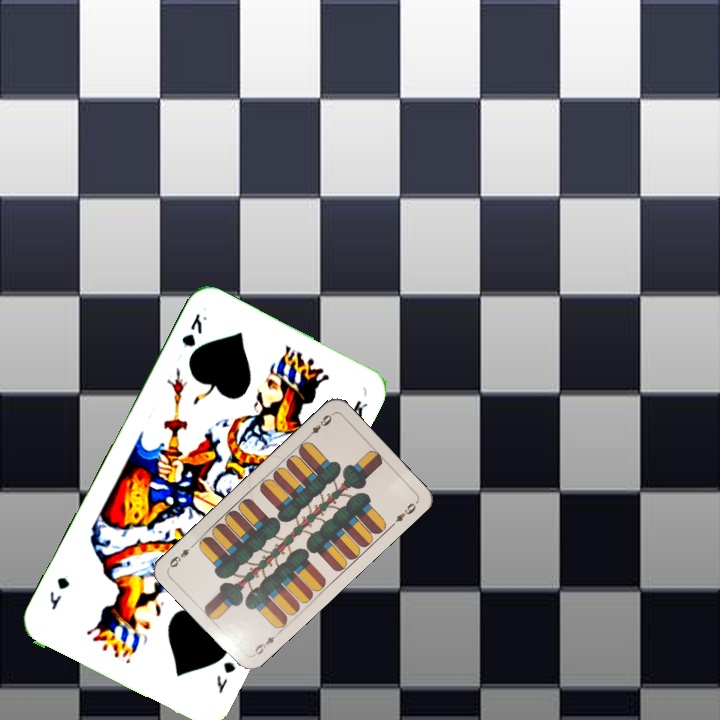E9: (303, 409, 335, 441), (249, 628, 282, 658)
GK: (178, 309, 210, 350), (212, 657, 238, 696)
